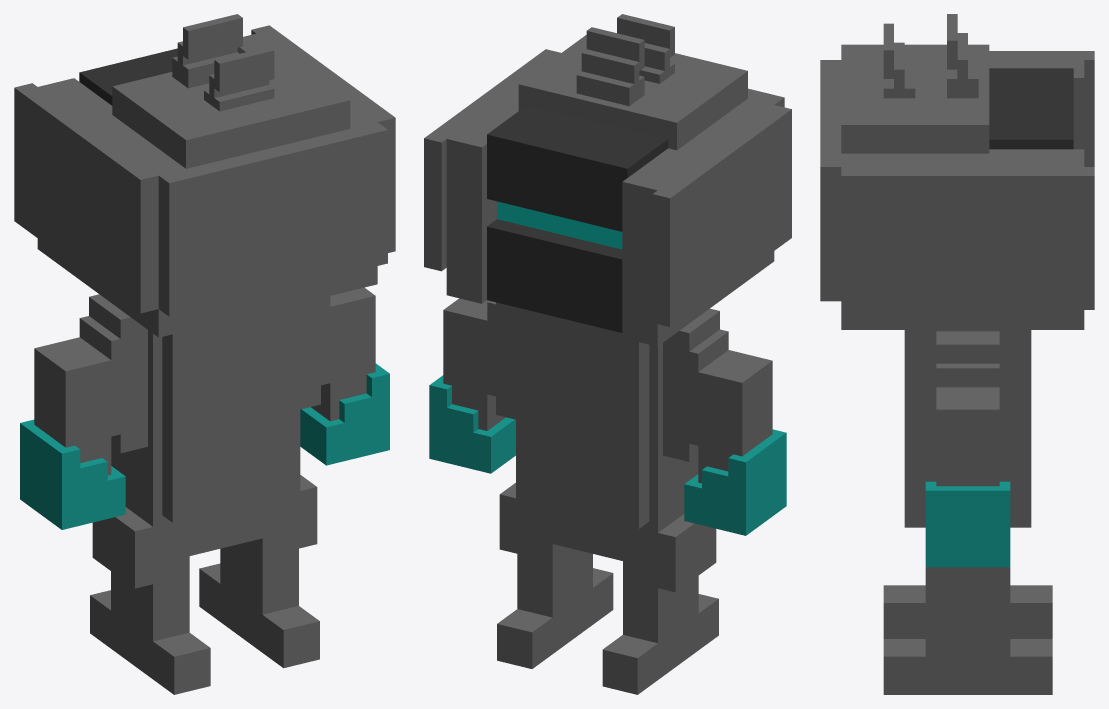
The model's file is cyborg.fbx.
3 renders of one model, left to right at view 1: azimuth 30°, elevation 25°; view 2: azimuth 150°, elevation 25°; view 3: azimuth 270°, elevation 25°, orthographic. The views are drawn at different scales.
Visible parts, largest first — view 1: head, body, cube_18, cube_7, cube_12, cube_9, cube_21, cube, cube_11, cube_19, cube_8, cube_20 (+13 smaller); view 2: head, body, face_2, face_1, cube_18, cube_7, cube_9, cube_12, cube_21, cube, cube_11, cube_19 (+17 smaller); view 3: head, body, cube_12, face_2, cube_21, cube_9, cube_11, cube_24, cube_10, cube_20, cube_3, cube_1 (+6 smaller).
Boxes of the visible parts, x1=… form: head: x1=14, y1=25, x2=395, y2=337; body: x1=111, y1=303, x2=300, y2=555; cube_18: x1=34, y1=337, x2=111, y2=475; cube_7: x1=92, y1=507, x2=189, y2=588; cube_12: x1=199, y1=563, x2=319, y2=668; cube_9: x1=90, y1=590, x2=210, y2=694; cube_21: x1=311, y1=287, x2=375, y2=421; cube: x1=79, y1=316, x2=147, y2=436; cube_11: x1=220, y1=543, x2=298, y2=614; cube_19: x1=20, y1=461, x2=125, y2=529; cube_8: x1=111, y1=571, x2=189, y2=641; cube_20: x1=300, y1=407, x2=389, y2=465; head: x1=424, y1=35, x2=791, y2=346; body: x1=516, y1=307, x2=698, y2=560; face_2: x1=487, y1=105, x2=668, y2=231; face_1: x1=487, y1=219, x2=622, y2=305; cube_18: x1=698, y1=350, x2=772, y2=483; cube_7: x1=623, y1=514, x2=716, y2=592; cube_9: x1=602, y1=594, x2=718, y2=694; cube_12: x1=497, y1=568, x2=613, y2=668; cube_21: x1=443, y1=298, x2=505, y2=430; cube: x1=663, y1=329, x2=728, y2=445; cube_11: x1=517, y1=548, x2=592, y2=617; cube_19: x1=684, y1=469, x2=786, y2=535; head: x1=820, y1=44, x2=1094, y2=329; body: x1=904, y1=330, x2=1031, y2=527; cube_12: x1=883, y1=639, x2=1052, y2=694; face_2: x1=989, y1=68, x2=1073, y2=149; cube_21: x1=936, y1=387, x2=999, y2=486; cube_9: x1=883, y1=585, x2=1052, y2=638; cube_11: x1=925, y1=608, x2=1010, y2=656; cube_24: x1=925, y1=481, x2=1010, y2=528; cube_10: x1=925, y1=567, x2=1010, y2=608; cube_20: x1=925, y1=529, x2=1010, y2=567; cube_3: x1=936, y1=331, x2=999, y2=363; cube_1: x1=936, y1=363, x2=999, y2=387.
Size of the model in its own units: 56.25 by 103 by 40.62.
Materials: 1 (1 with a texture image).
